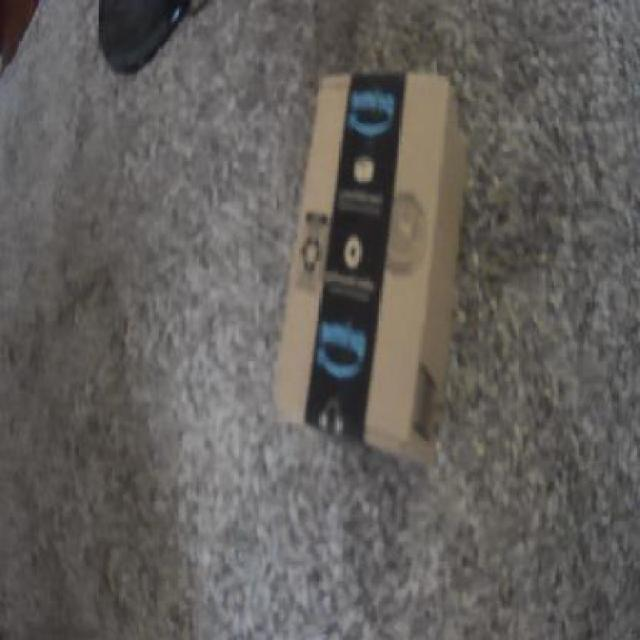cardboxes: (266, 66, 476, 479)
